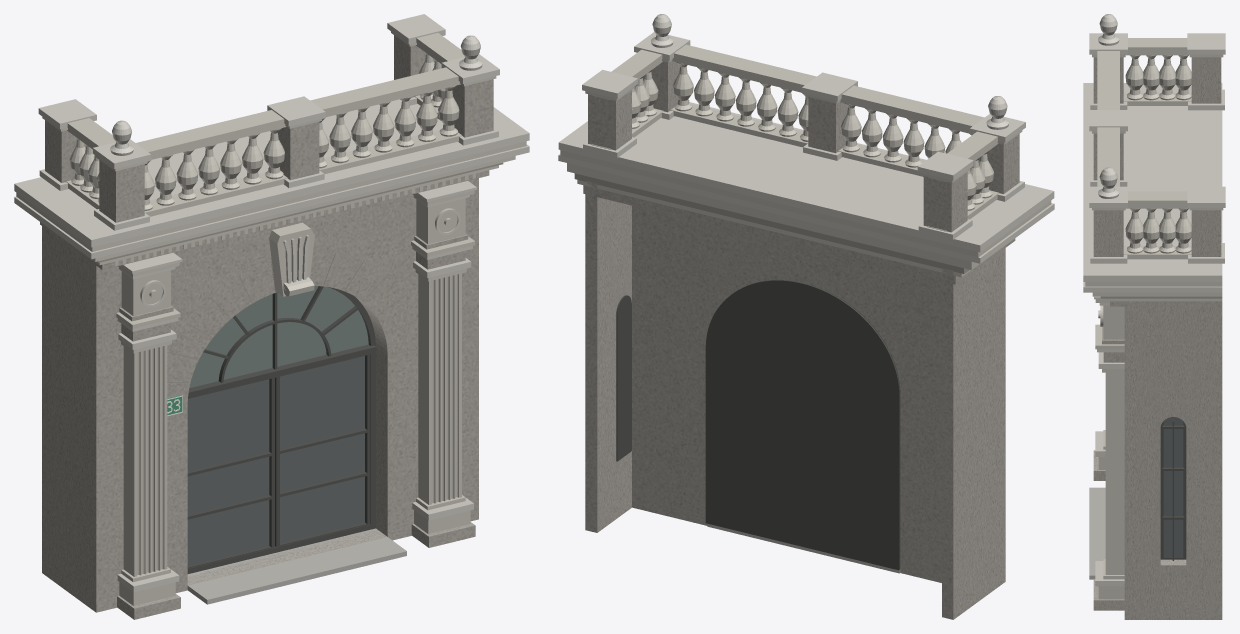
The model's file is dupleix-porch-near.glb.
3 renders of one model, left to right at view 1: azimuth 30°, elevation 25°; view 2: azimuth 150°, elevation 25°; view 3: azimuth 270°, elevation 25°, orthographic. The views are drawn at different scales.
Parts seen in each view (by area): view 1: 巨泼来斯公寓安福路233号石券门廊与瓶栏露台; view 2: 巨泼来斯公寓安福路233号石券门廊与瓶栏露台; view 3: 巨泼来斯公寓安福路233号石券门廊与瓶栏露台.
Part boxes in pixels (bbox=[...]): 巨泼来斯公寓安福路233号石券门廊与瓶栏露台: bbox=[14, 14, 529, 619]; 巨泼来斯公寓安福路233号石券门廊与瓶栏露台: bbox=[558, 14, 1054, 619]; 巨泼来斯公寓安福路233号石券门廊与瓶栏露台: bbox=[1083, 14, 1225, 619].
Bounding box in the file's own units: 4.45 × 4.79 × 1.39.
10 materials, 1 textured.
